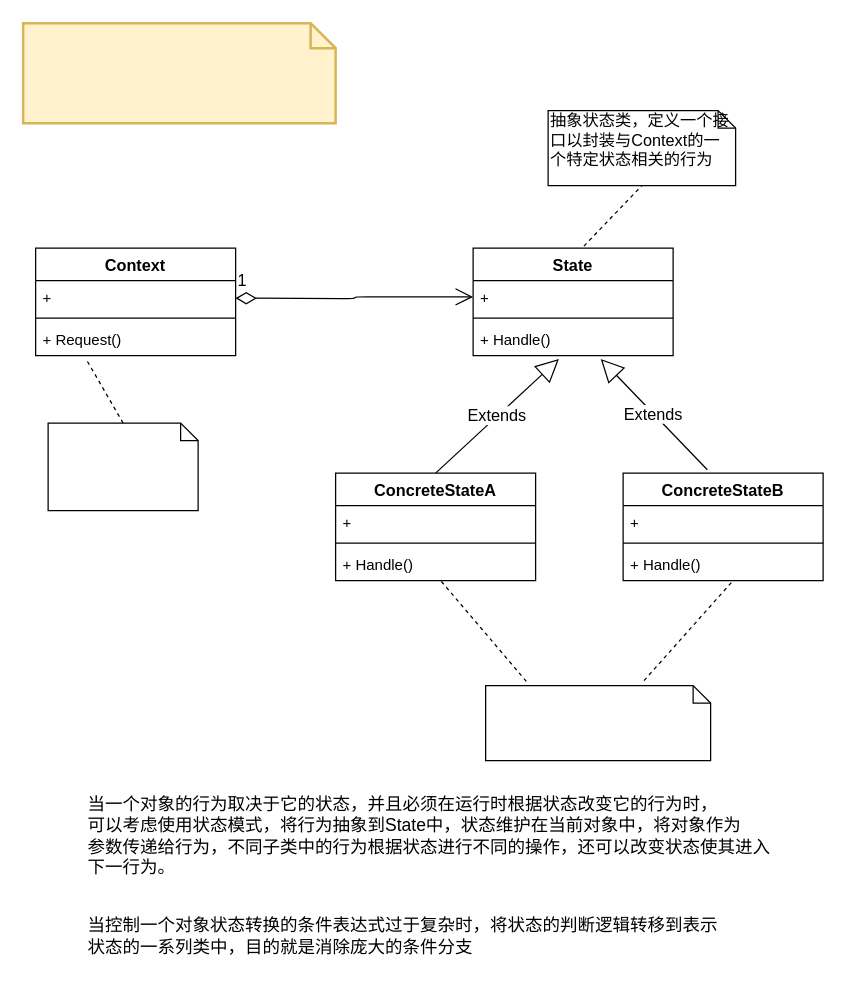
This 845x981 diagram has some shape labels left out. The centre of each missing label's shape, as x and y in pixels:
具体状态，每一个子类实现一个与Context的一个状态相关的行为: point 597,722
状态模式(State):当一个对象的内在状态改变时，允许改变其行为，这个对象看起来像是改变了其类: point 178,72
维护一个ConcreteState子类的实例，这个实例定义当前的状态: point 122,466
